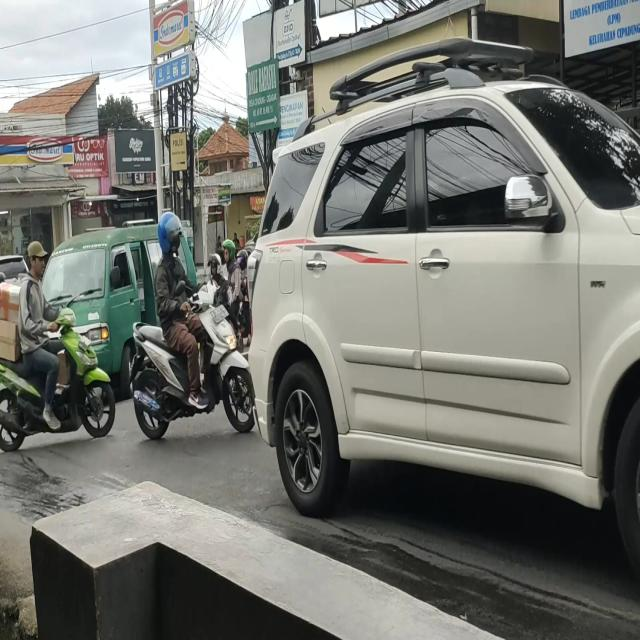helmet: (158, 210, 181, 261), (208, 253, 222, 279), (225, 241, 237, 268)
no-helmet: (28, 240, 46, 282)
